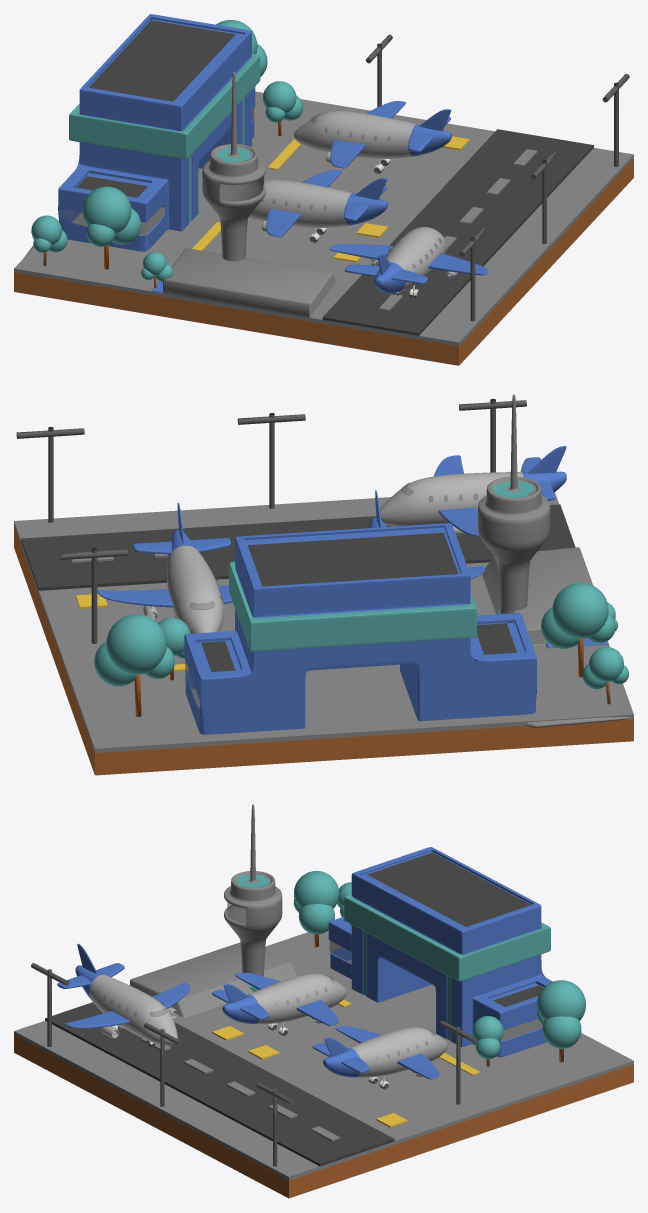
The model's file is airport-3d-animated-icon-779222171788.glb.
The picture shows the model from 3 angles, top to bottom: view 1: azimuth 30°, elevation 25°; view 2: azimuth 150°, elevation 25°; view 3: azimuth 270°, elevation 25°; orthographic projection. The views are drawn at different scales.
Visible parts, largest first — view 1: land, building, road, body.004, body.001, tower, body.002, tree.004, pole, grid, tree, tree.012 (+3 smaller); view 2: land, building, road, tower, body.002, body.004, tree.008, pole, tree.004, tree.012, tree; view 3: land, building, road, body.002, body.001, body.004, tower, tree.008, pole, tree.004, grid, tree (+1 smaller).
Boxes of the visible parts, bbox=[...] form: land: bbox=[14, 91, 633, 365]; building: bbox=[58, 14, 260, 251]; road: bbox=[322, 129, 593, 335]; body.004: bbox=[293, 101, 451, 168]; body.001: bbox=[248, 170, 387, 237]; tower: bbox=[202, 71, 265, 261]; body.002: bbox=[329, 227, 488, 293]; tree.004: bbox=[82, 186, 141, 269]; pole: bbox=[365, 34, 629, 321]; grid: bbox=[192, 136, 469, 262]; tree: bbox=[263, 81, 303, 136]; tree.012: bbox=[31, 215, 67, 265]; land: bbox=[14, 492, 633, 775]; building: bbox=[184, 523, 536, 734]; road: bbox=[21, 504, 575, 590]; tower: bbox=[478, 394, 550, 614]; body.002: bbox=[379, 446, 566, 536]; body.004: bbox=[97, 503, 232, 633]; tree.008: bbox=[94, 614, 174, 716]; pole: bbox=[16, 399, 526, 643]; tree.004: bbox=[541, 582, 615, 677]; tree.012: bbox=[582, 647, 628, 704]; tree: bbox=[158, 617, 190, 680]; land: bbox=[14, 930, 633, 1198]; building: bbox=[328, 847, 552, 1057]; road: bbox=[45, 1002, 394, 1166]; body.002: bbox=[57, 943, 190, 1045]; body.001: bbox=[212, 972, 346, 1026]; body.004: bbox=[312, 1026, 447, 1079]; tower: bbox=[224, 804, 282, 991]; tree.008: bbox=[537, 980, 585, 1062]; pole: bbox=[31, 963, 477, 1166]; tree.004: bbox=[294, 871, 339, 947]; grid: bbox=[212, 999, 480, 1127]; tree: bbox=[472, 1016, 503, 1066].
Size of the model in its own units: 2.81 by 1.03 by 2.81.
